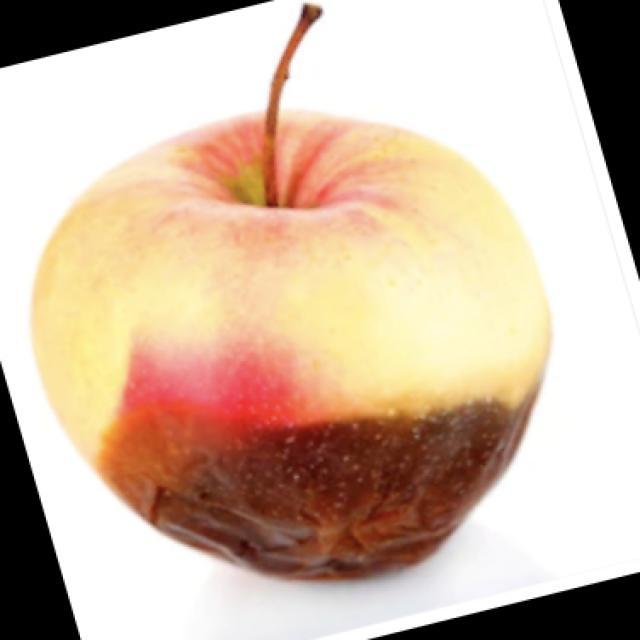Rotten: (31, 103, 551, 583)
